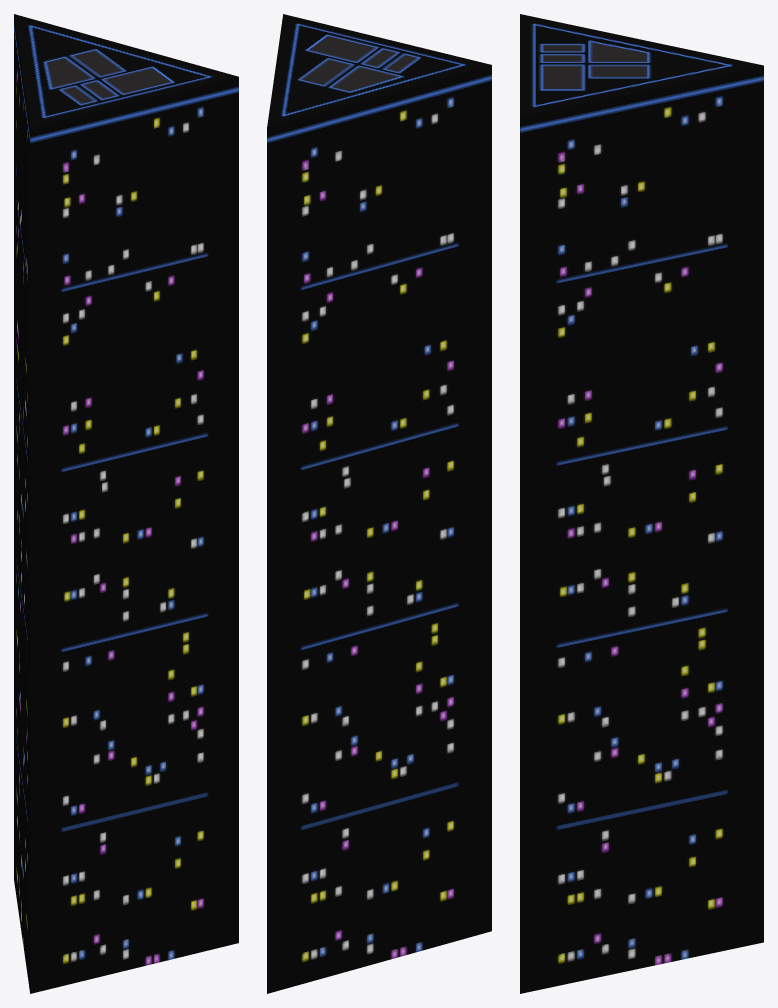
File: bldg_006.fbx
3 views of the same model, side by side, from view 1: azimuth 30°, elevation 25°; view 2: azimuth 150°, elevation 25°; view 3: azimuth 270°, elevation 25° (orthographic).
Visible parts, largest first — view 1: bdlg_006; view 2: bdlg_006; view 3: bdlg_006.
Part boxes in pixels (x1,y1,x2,y2): bdlg_006: [14, 14, 238, 993]; bdlg_006: [267, 14, 491, 993]; bdlg_006: [520, 14, 763, 993].
Bounding box in the file's own units: 290 × 1151 × 290.
Materials: 1 (1 with a texture image).
